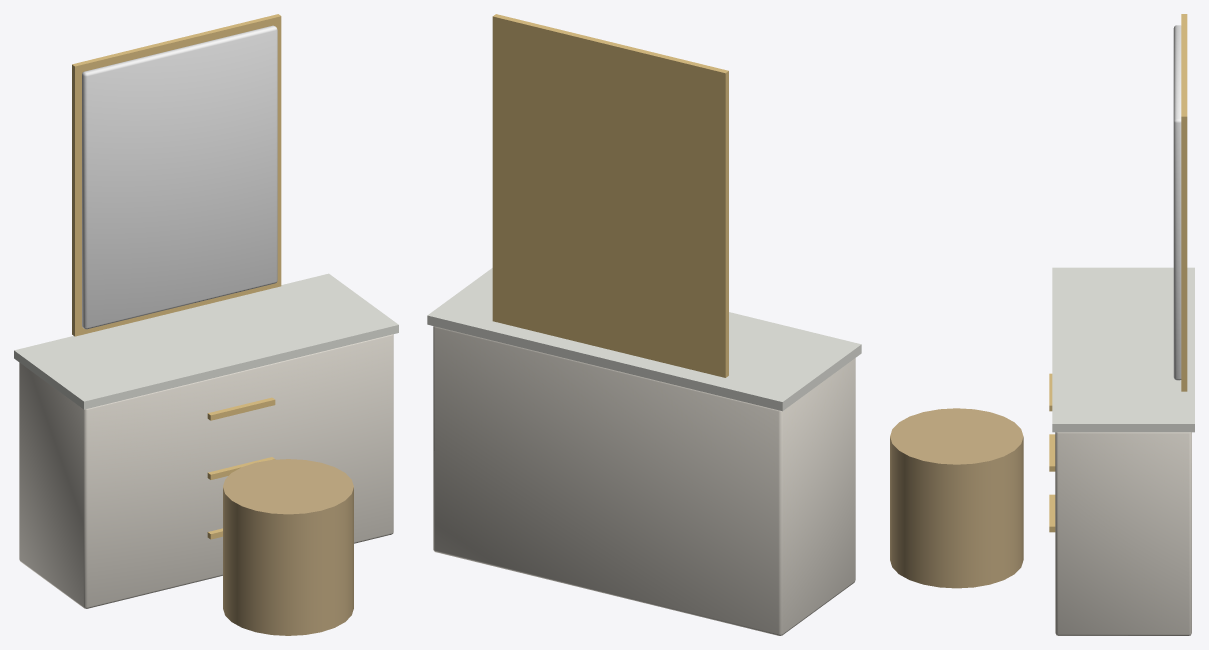
File: fur_dresser.glb
3 renders of one model, left to right at view 1: azimuth 30°, elevation 25°; view 2: azimuth 150°, elevation 25°; view 3: azimuth 270°, elevation 25°, orthographic. The views are drawn at different scales.
Parts seen in each view (by area): view 1: FUR_dresser; view 2: FUR_dresser; view 3: FUR_dresser.
Part boxes in pixels (bbox=[...]): FUR_dresser: bbox=[14, 14, 398, 635]; FUR_dresser: bbox=[427, 14, 861, 635]; FUR_dresser: bbox=[890, 14, 1194, 635].
Size of the model in its own units: 1.22 by 1.8 by 1.01.
Materials: 3 (1 with a texture image).
